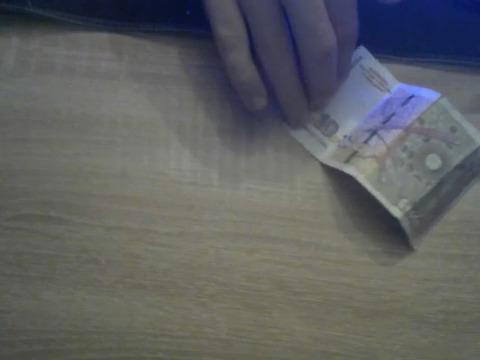10leva: (284, 46, 480, 251)
